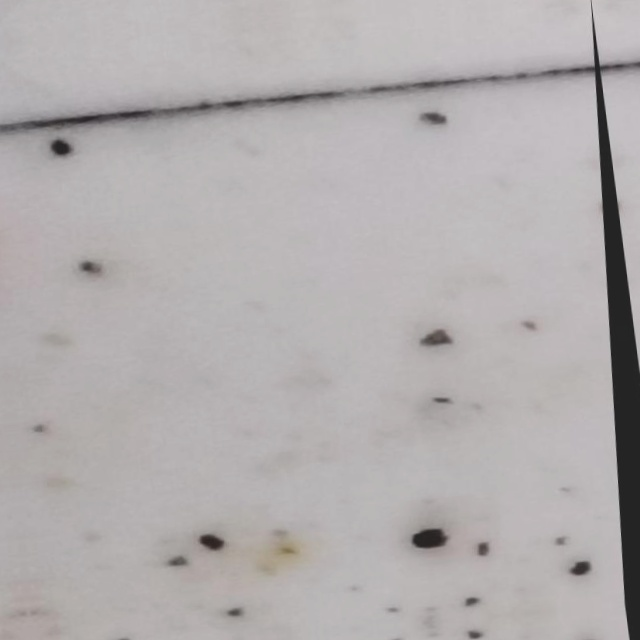varroa: (413, 524, 456, 553), (45, 133, 77, 156)
